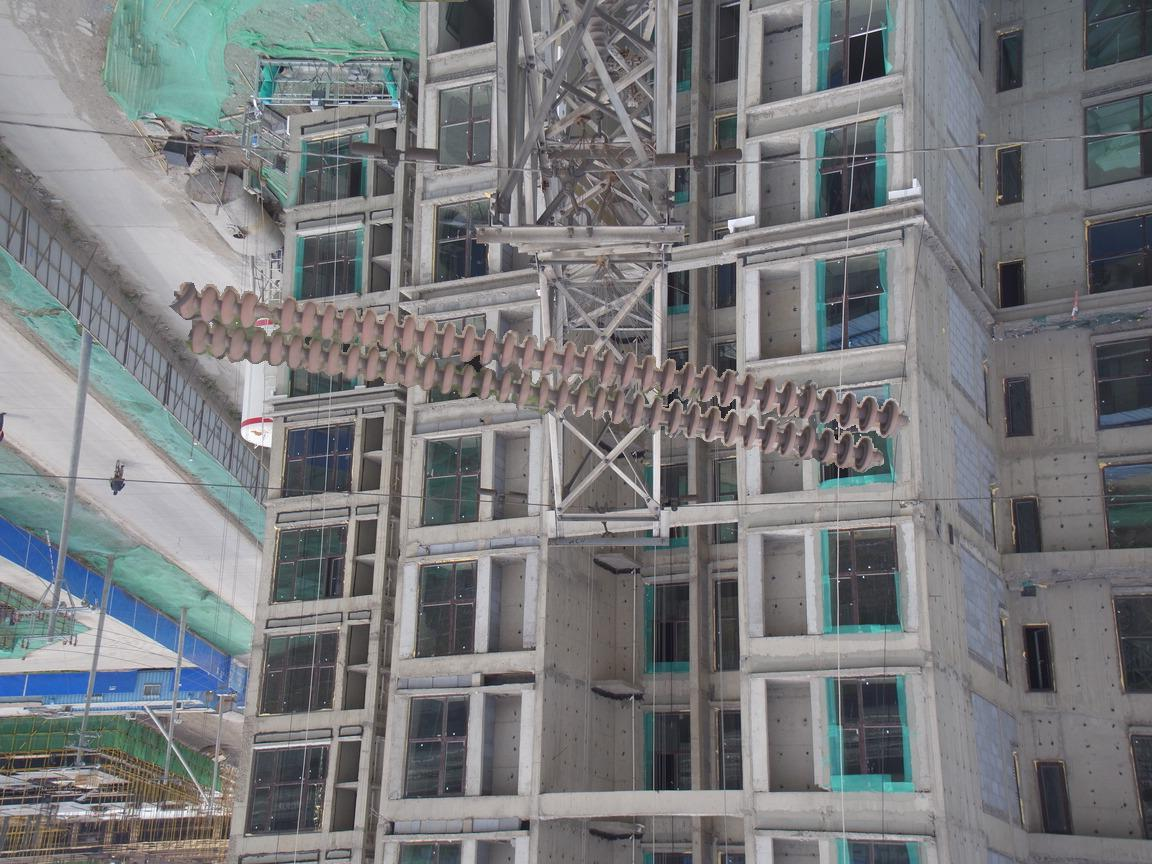insulator: (169, 277, 908, 479)
insulator_stringdrop: (235, 290, 299, 335)
